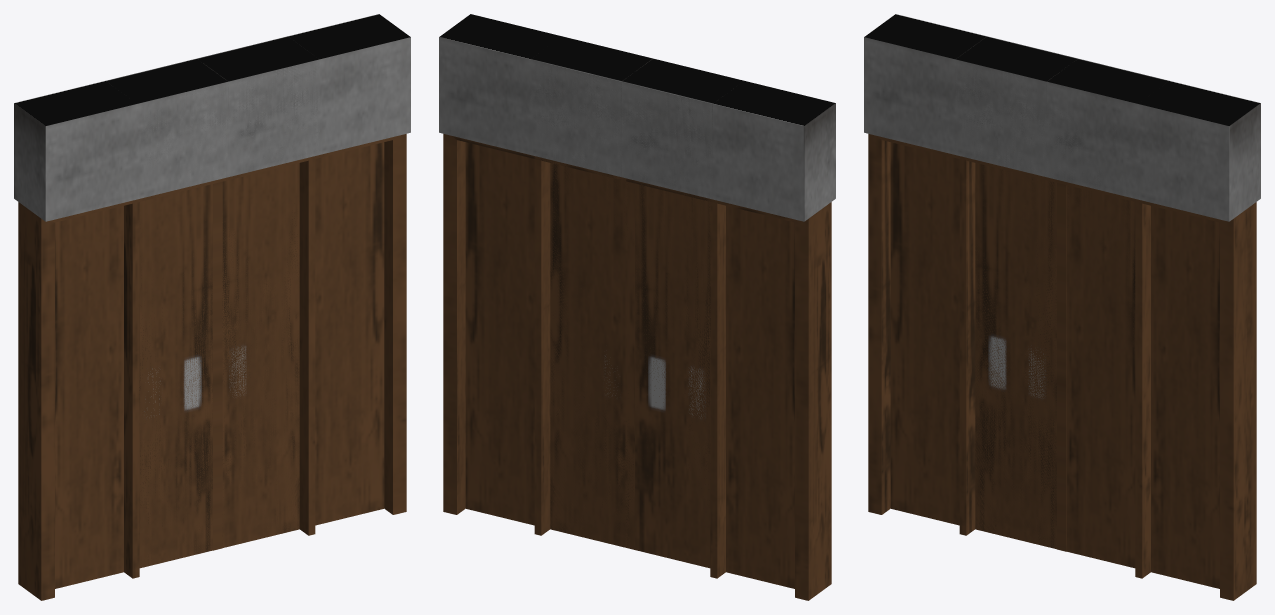
The model's file is Door_Wood_Normal.fbx.
3 renders of one model, left to right at view 1: azimuth 30°, elevation 25°; view 2: azimuth 150°, elevation 25°; view 3: azimuth 330°, elevation 25°, orthographic.
Parts seen in each view (by area): view 1: Wall_Door_Wood_Normal_Double, Wall_Door_Wood_Normal_Double_Left, Wall_Door_Wood_Normal_Double_Right, Wall_Door_Wood_Normal_Single_Leaf, Wall_Door_Wood_Normal_Single; view 2: Wall_Door_Wood_Normal_Double, Wall_Door_Wood_Normal_Double_Left, Wall_Door_Wood_Normal_Single_Leaf, Wall_Door_Wood_Normal_Double_Right, Wall_Door_Wood_Normal_Single; view 3: Wall_Door_Wood_Normal_Double, Wall_Door_Wood_Normal_Single_Leaf, Wall_Door_Wood_Normal_Double_Left, Wall_Door_Wood_Normal_Double_Right, Wall_Door_Wood_Normal_Single.
Part boxes in pixels (x1,y1,x2,y2): Wall_Door_Wood_Normal_Double: (14,14,410,600); Wall_Door_Wood_Normal_Double_Left: (55,184,212,588); Wall_Door_Wood_Normal_Double_Right: (213,142,384,550); Wall_Door_Wood_Normal_Single_Leaf: (139,209,299,566); Wall_Door_Wood_Normal_Single: (105,36,319,578); Wall_Door_Wood_Normal_Double: (439,14,835,600); Wall_Door_Wood_Normal_Double_Left: (635,183,794,588); Wall_Door_Wood_Normal_Single_Leaf: (550,163,710,549); Wall_Door_Wood_Normal_Double_Right: (465,142,634,547); Wall_Door_Wood_Normal_Single: (530,41,743,578); Wall_Door_Wood_Normal_Double: (864,14,1260,600); Wall_Door_Wood_Normal_Single_Leaf: (975,163,1135,568); Wall_Door_Wood_Normal_Double_Left: (890,142,1056,548); Wall_Door_Wood_Normal_Double_Right: (1057,183,1219,588); Wall_Door_Wood_Normal_Single: (955,36,1169,578).
Bounding box in the file's own units: 200 × 250 × 30.
